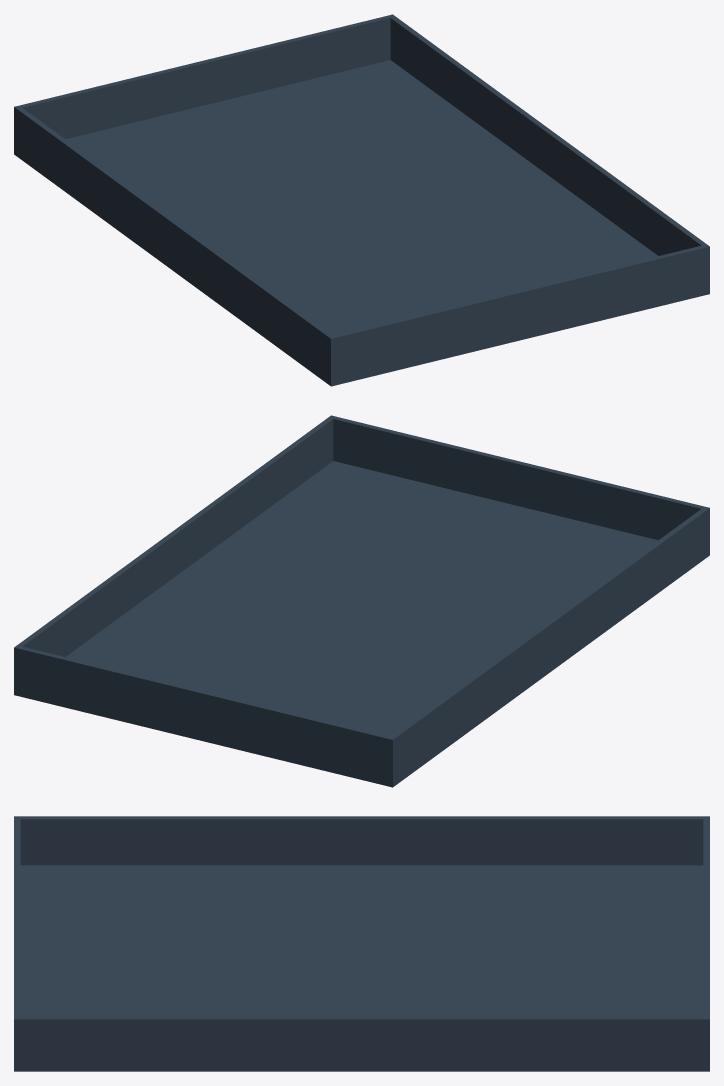
File: jp_bedroom_notebook_cover.glb
3 views of the same model, one above another, from view 1: azimuth 30°, elevation 25°; view 2: azimuth 150°, elevation 25°; view 3: azimuth 270°, elevation 25° (orthographic). The views are drawn at different scales.
Parts seen in each view (by area): view 1: cover; view 2: cover; view 3: cover.
Part boxes in pixels (x1=…): cover: x1=14, y1=14, x2=709, y2=386; cover: x1=14, y1=415, x2=709, y2=787; cover: x1=14, y1=816, x2=709, y2=1071.
Size of the model in its own units: 0.1 by 0.012 by 0.145.
